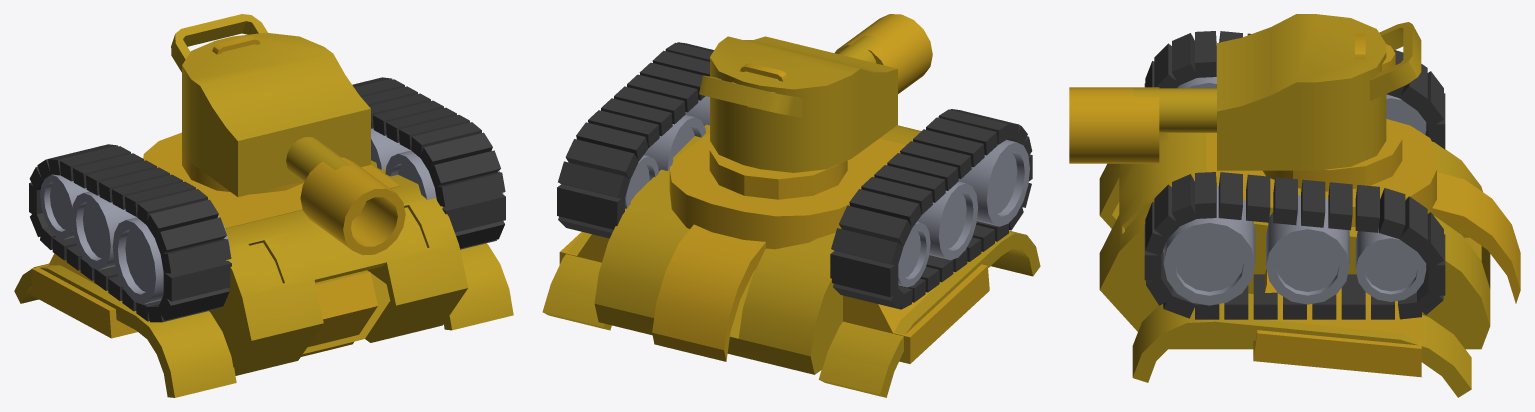
The model's file is tank_compressed.glb.
3 views of the same model, side by side, from view 1: azimuth 30°, elevation 25°; view 2: azimuth 150°, elevation 25°; view 3: azimuth 270°, elevation 25° (orthographic). The views are drawn at different scales.
Parts seen in each view (by area): view 1: Cylinder010_1, Cylinder010_3, Cylinder010_2, Cylinder010; view 2: Cylinder010_1, Cylinder010_2, Cylinder010_3, Cylinder010; view 3: Cylinder010_1, Cylinder010_2, Cylinder010_3, Cylinder010.
Part boxes in pixels (left/top/right/bottom): Cylinder010_1: left=14, top=14, right=513, bottom=397; Cylinder010_3: left=29, top=77, right=505, bottom=322; Cylinder010_2: left=31, top=36, right=405, bottom=356; Cylinder010: left=40, top=128, right=503, bottom=304; Cylinder010_1: left=542, top=35, right=1040, bottom=397; Cylinder010_2: left=559, top=14, right=989, bottom=363; Cylinder010_3: left=557, top=42, right=1032, bottom=309; Cylinder010: left=625, top=96, right=1029, bottom=287; Cylinder010_1: left=1099, top=14, right=1490, bottom=397; Cylinder010_2: left=1069, top=33, right=1520, bottom=377; Cylinder010_3: left=1144, top=31, right=1445, bottom=319; Cylinder010: left=1163, top=45, right=1426, bottom=305.
Size of the model in its own units: 77739 by 54314 by 82012.
